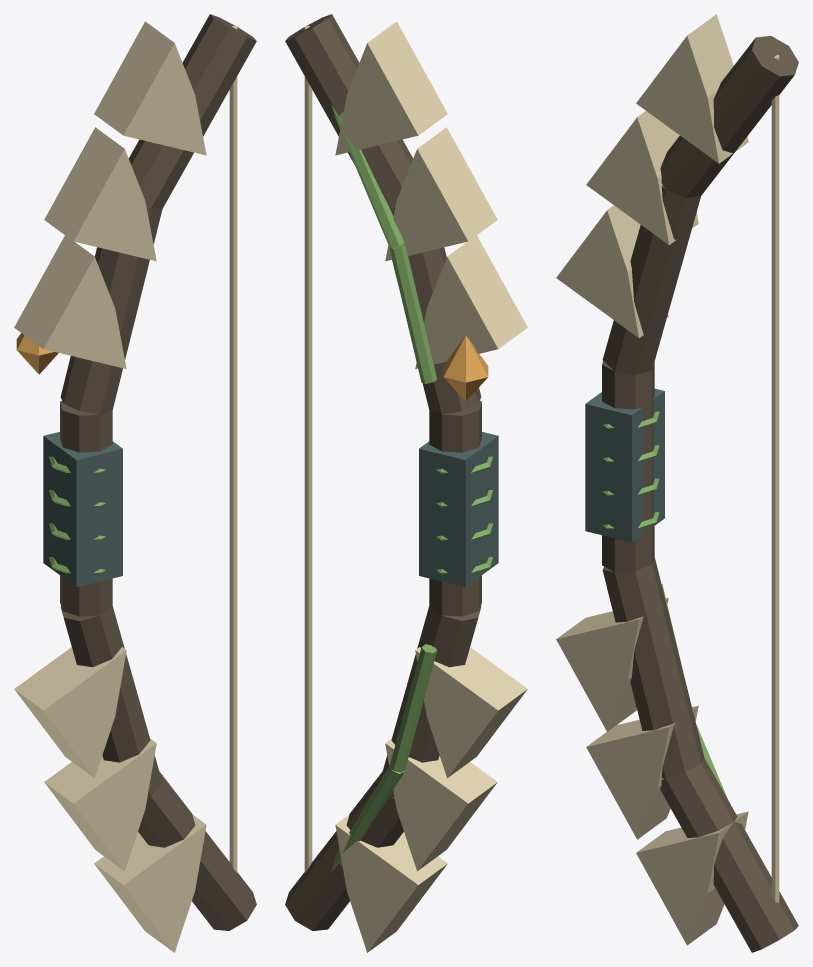
The model's file is Profession_FangBow.fbx.
The picture shows the model from 3 angles, left to right: view 1: azimuth 30°, elevation 25°; view 2: azimuth 150°, elevation 25°; view 3: azimuth 330°, elevation 25°; orthographic projection.
Parts seen in each view (by area): view 1: Profession_FangBow; view 2: Profession_FangBow; view 3: Profession_FangBow.
Part boxes in pixels (x1,y1,x2,y2): Profession_FangBow: (14,14,256,952); Profession_FangBow: (285,14,527,952); Profession_FangBow: (556,14,798,952).
Size of the model in its own units: 0.3506 by 1.36 by 0.1293.
